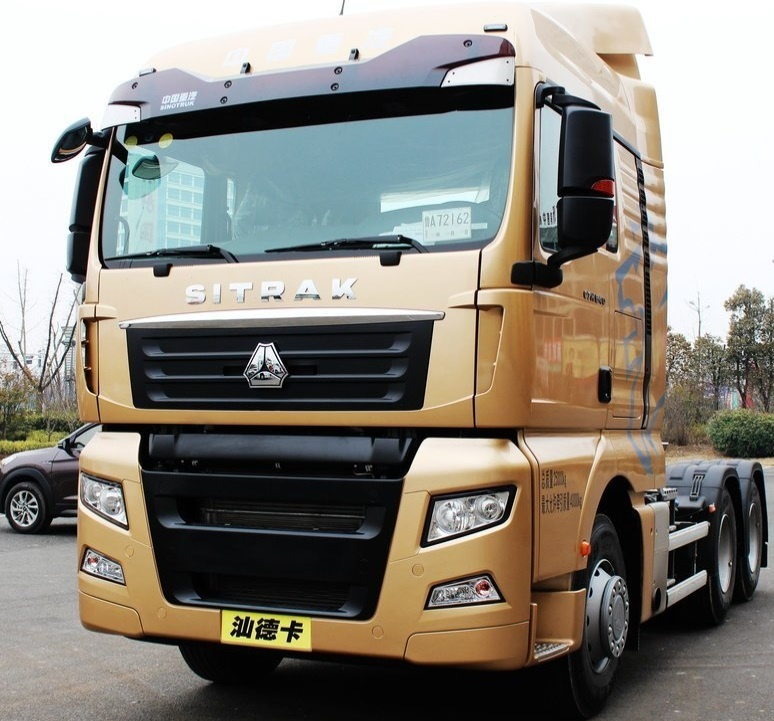heavy truck: (44, 17, 763, 692)
